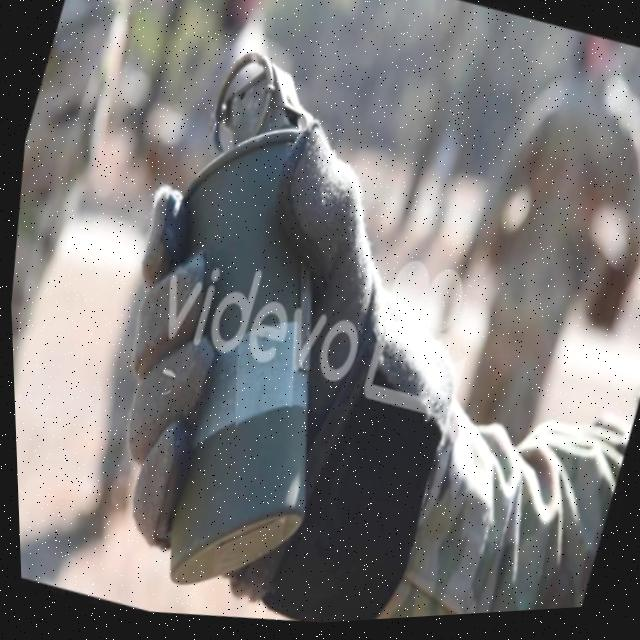grenade: (50, 22, 443, 638)
